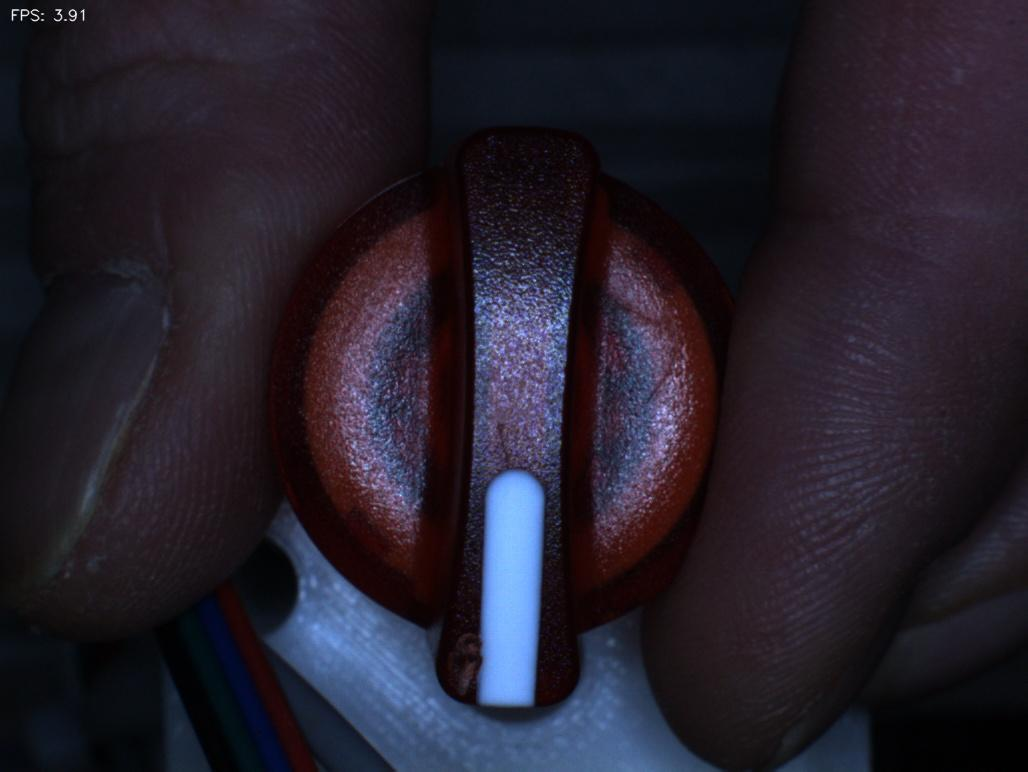Choc: (417, 613, 515, 716)
